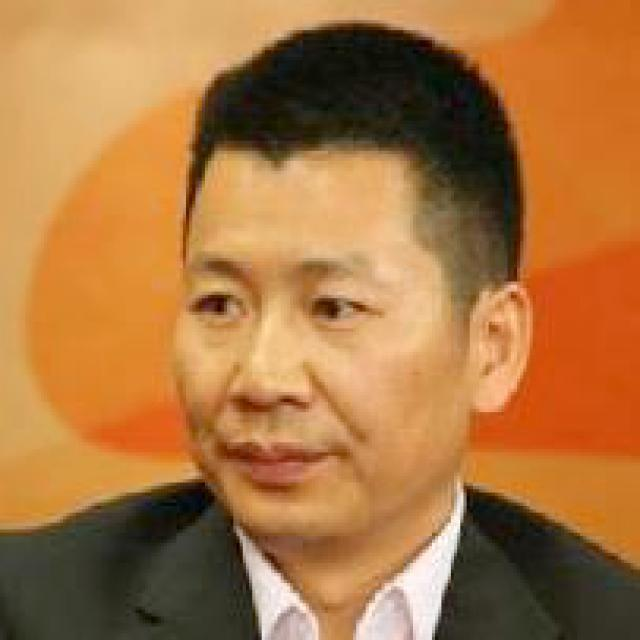face: (170, 87, 482, 543)
